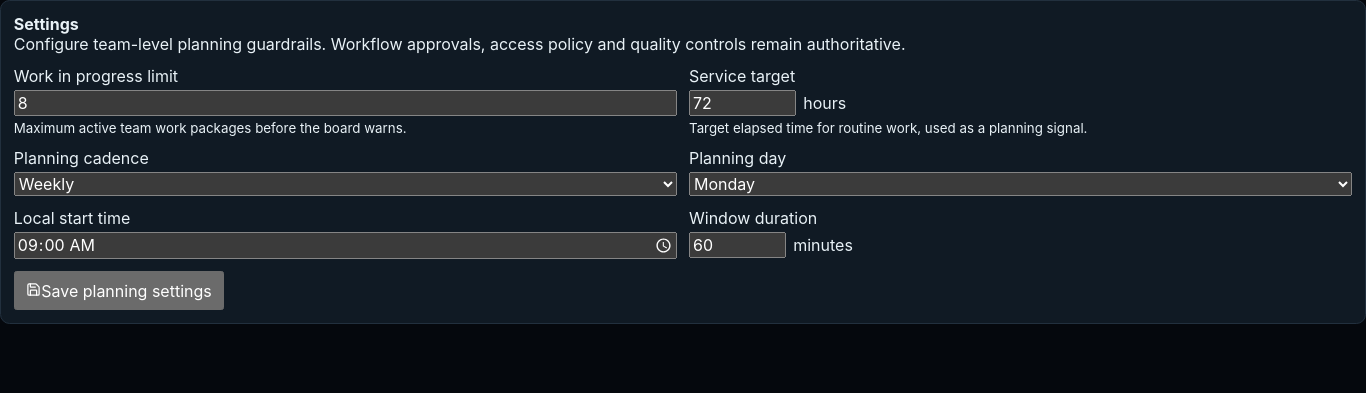
Test case: settings report a rejected save without discarding the draft
Click the button "Save planning settings" at [119, 291], box [14,271,224,310]
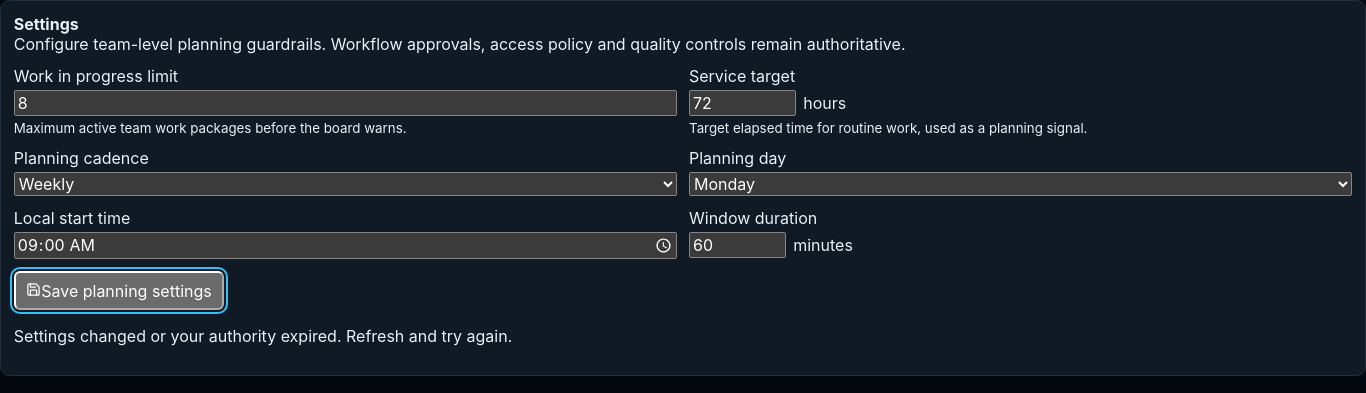
expect the number field labelled "Work in progress limit" holds "8": met, box [14,90,677,116]
expect the message reads "Settings changed or your authority expired. Refresh and try again.": met, box [14,326,512,346]
